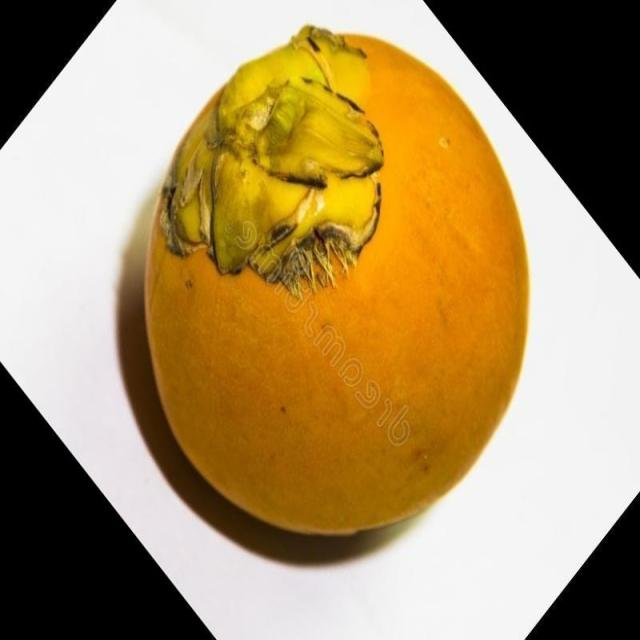good: (142, 25, 532, 541)
